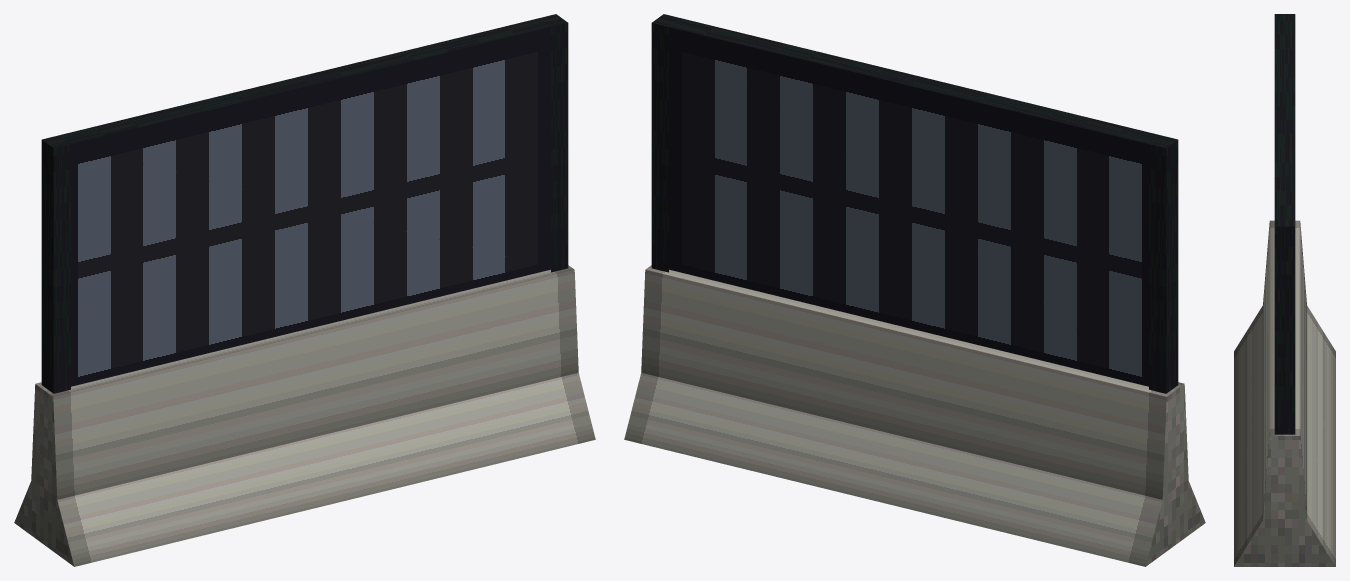
File: barrier.glb
3 renders of one model, left to right at view 1: azimuth 30°, elevation 25°; view 2: azimuth 150°, elevation 25°; view 3: azimuth 270°, elevation 25°, orthographic. The views are drawn at different scales.
Parts seen in each view (by area): view 1: Barrier; view 2: Barrier; view 3: Barrier.
Part boxes in pixels (<box>): Barrier: <box>14,14,595,566</box>; Barrier: <box>624,14,1205,566</box>; Barrier: <box>1234,14,1335,566</box>.
Size of the model in its own units: 3 by 2.2 by 0.6.
Materials: 1 (1 with a texture image).
